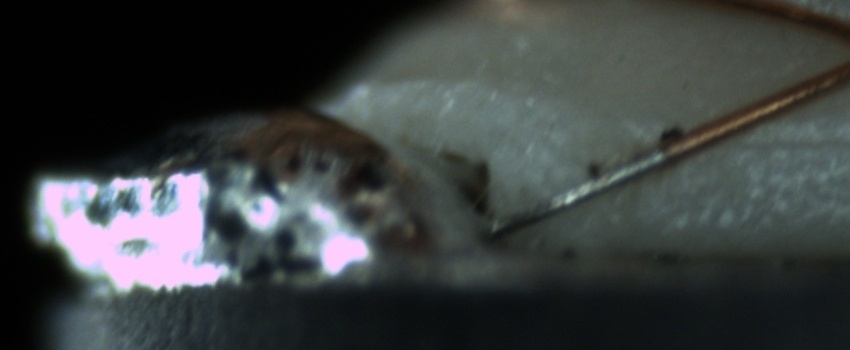DL: (724, 112, 849, 174)
TS: (485, 145, 674, 237)
